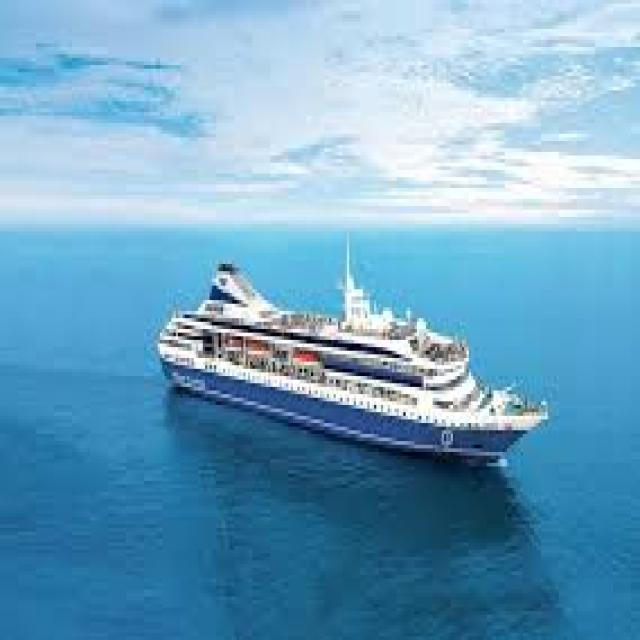PassengerShip: (128, 165, 557, 513)
